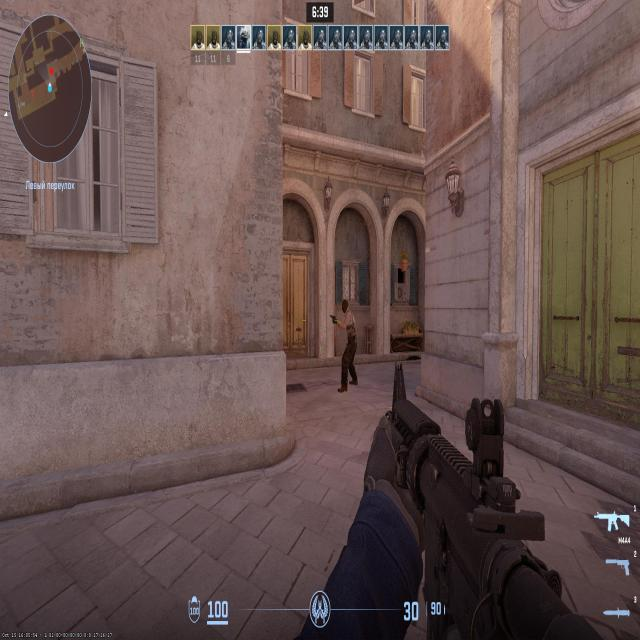T: (341, 302, 356, 384)
T_heat: (342, 302, 350, 318)
